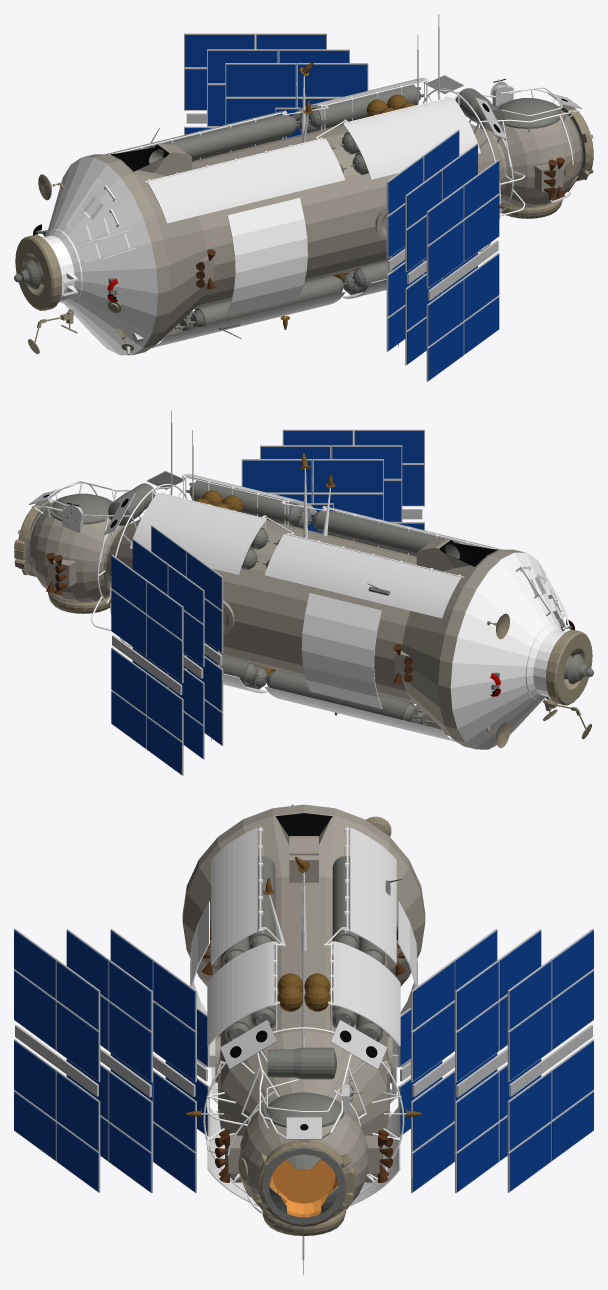
The model's file is fgb-ext_closed.obj.
3 views of the same model, one above another, from view 1: azimuth 30°, elevation 25°; view 2: azimuth 150°, elevation 25°; view 3: azimuth 270°, elevation 25° (orthographic). The views are drawn at different scales.
Visible parts, largest first — view 1: fgb-ext_closed_1, fgb-ext_closed; view 2: fgb-ext_closed_1, fgb-ext_closed; view 3: fgb-ext_closed, fgb-ext_closed_1.
Boxes of the visible parts, bbox=[...] form: fgb-ext_closed_1: bbox=[14, 14, 593, 355]; fgb-ext_closed: bbox=[184, 33, 499, 381]; fgb-ext_closed_1: bbox=[14, 410, 593, 749]; fgb-ext_closed: bbox=[111, 429, 424, 775]; fgb-ext_closed: bbox=[14, 928, 593, 1193]; fgb-ext_closed_1: bbox=[182, 804, 425, 1275].
Bounding box in the file's own units: 5185 × 2803 × 3845.
